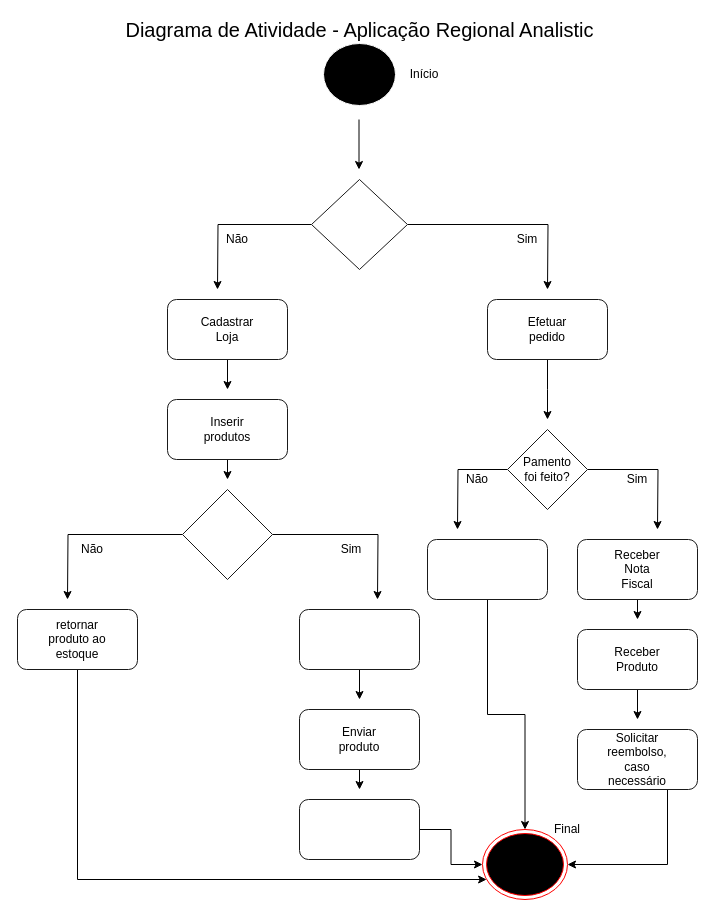
Image size: 715x917. Some labels were removed from this diagram. Each missing label, with the box of its shape:
Cancelar pedido: (426, 538, 548, 600)
Consumidor?: (310, 178, 408, 270)
Efetuar reembolso, caso solicitado: (298, 798, 420, 860)
Emitir Nota Fiscal: (298, 608, 420, 670)
Venda confirmada?: (182, 488, 272, 580)
